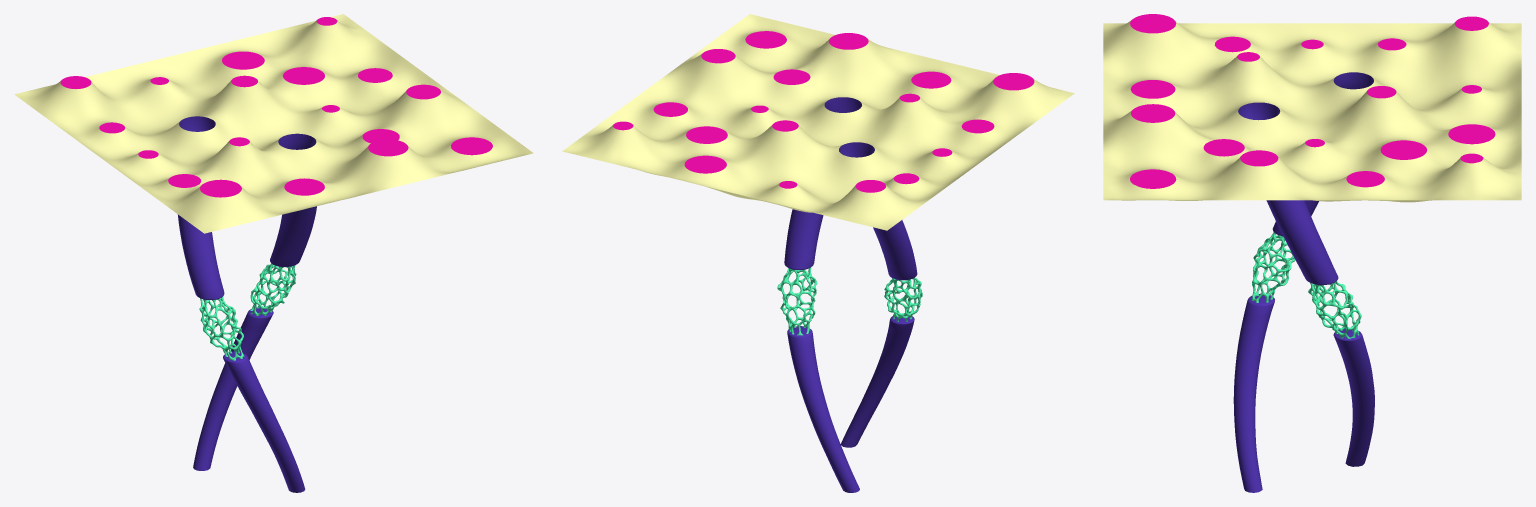
Rendered from Roof_02_columns.fbx.
The picture shows the model from 3 angles, left to right: view 1: azimuth 30°, elevation 25°; view 2: azimuth 150°, elevation 25°; view 3: azimuth 270°, elevation 25°; orthographic projection. The views are drawn at different scales.
Parts seen in each view (by area): view 1: Roof_v2_columns; view 2: Roof_v2_columns; view 3: Roof_v2_columns.
Part boxes in pixels (bbox=[...]): Roof_v2_columns: bbox=[14, 14, 533, 492]; Roof_v2_columns: bbox=[562, 14, 1074, 492]; Roof_v2_columns: bbox=[1103, 14, 1521, 492].
Bounding box in the file's own units: 5 × 5.27 × 5.
